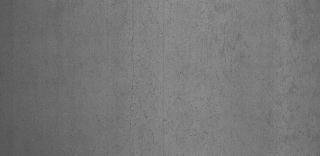silk spot: (121, 2, 316, 152)
